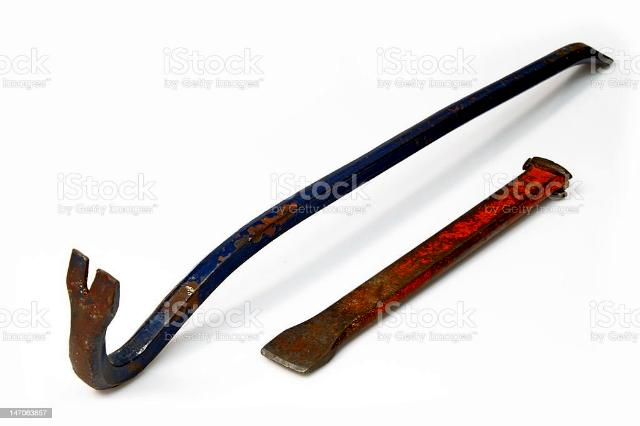crow bar: (68, 40, 617, 394)
